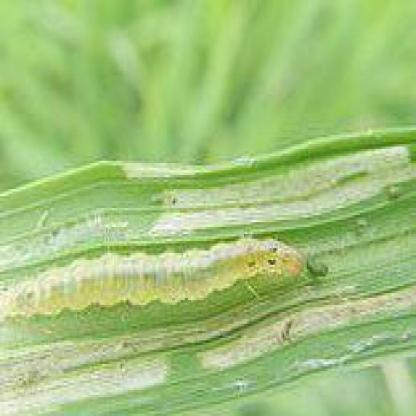leaf-folder: (9, 221, 320, 329)
